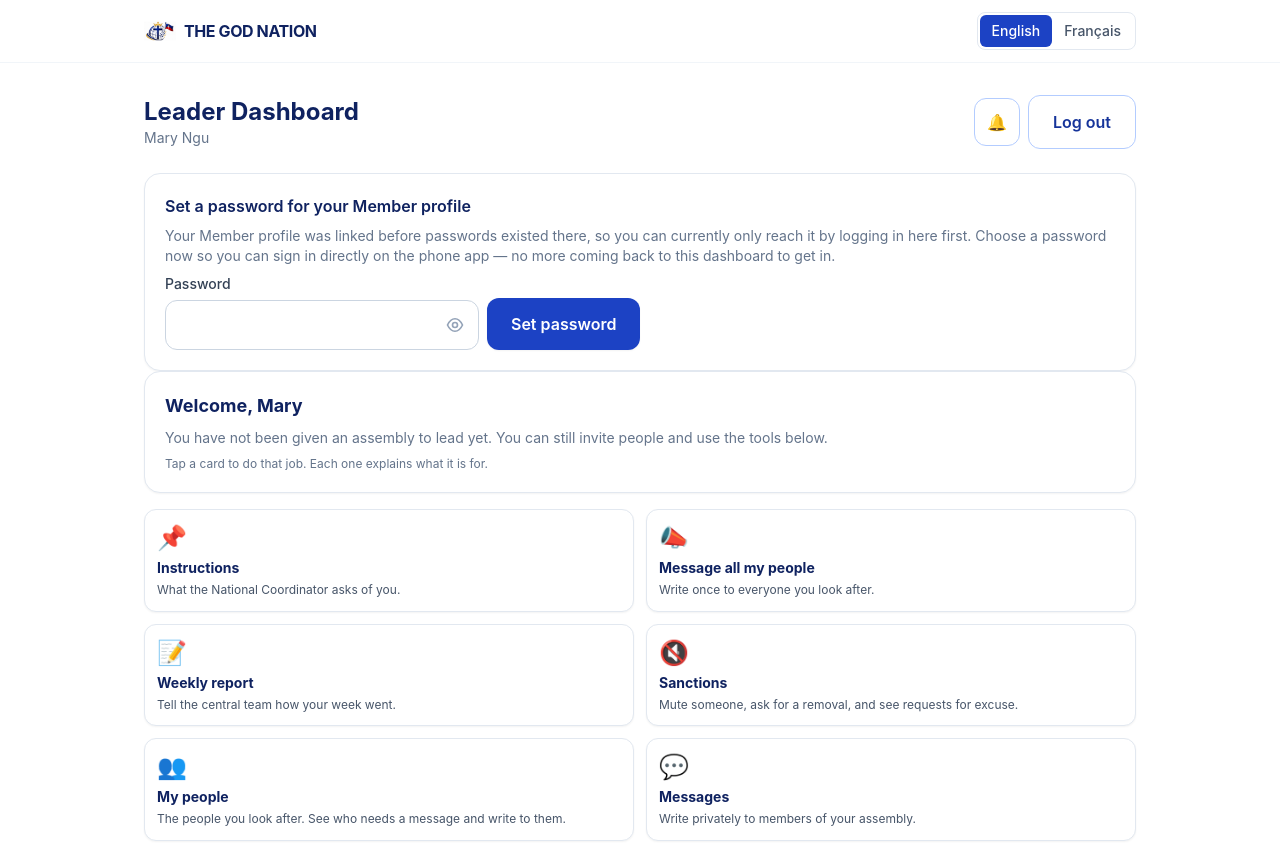
LeaderDashboardPage — Leader <-> Member identity bridge › offers to set a password for a legacy-linked profile that has none, then shows the fully-linked state once set
Expected: the heading "Set a password for your Member profile" is shown, [165, 196, 471, 216]
Expected: the text "Your Leader account is linked to your Member profile." is not shown
Type "Newpass123" into the password field labelled "Password" at coordinates (322, 325), box [165, 300, 479, 350]
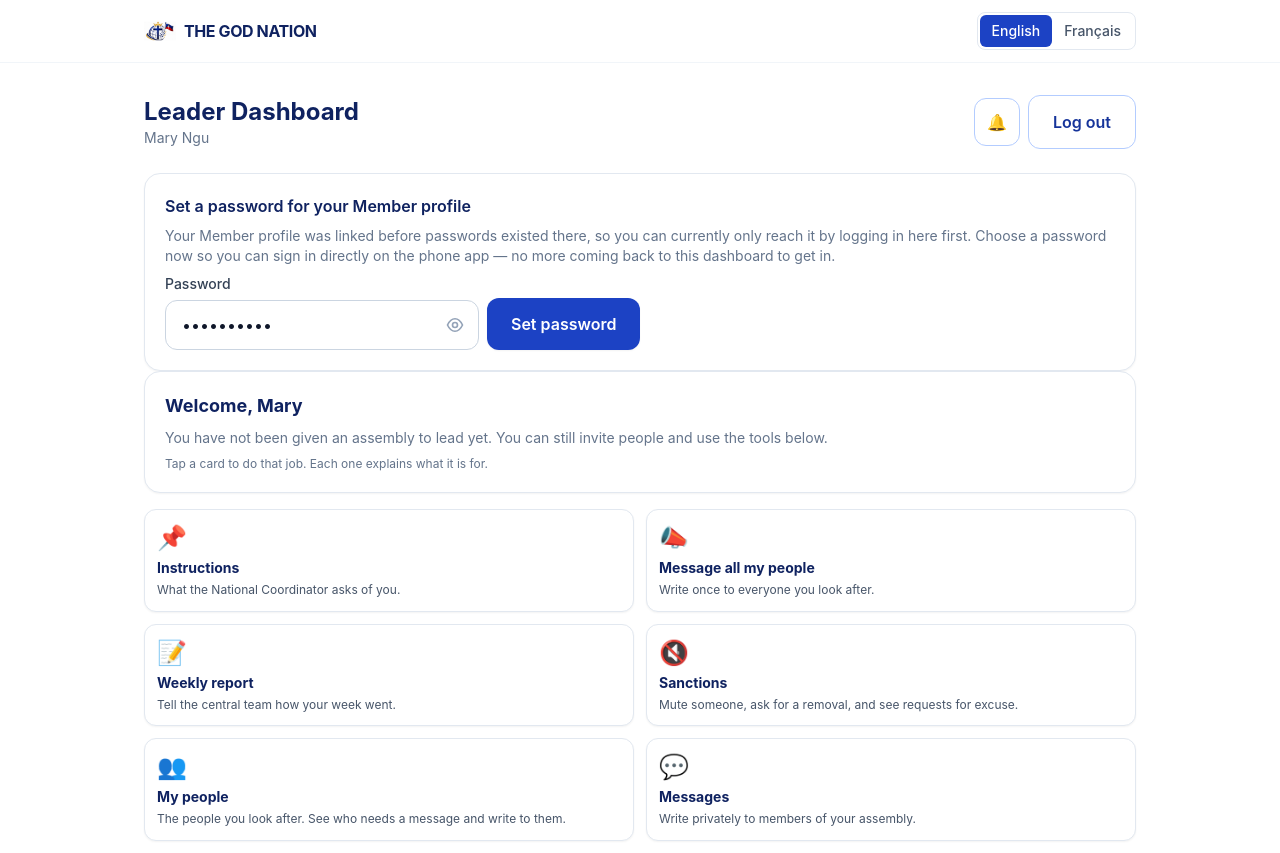
Click the button "Set password" at coordinates (564, 324), box [487, 298, 640, 350]
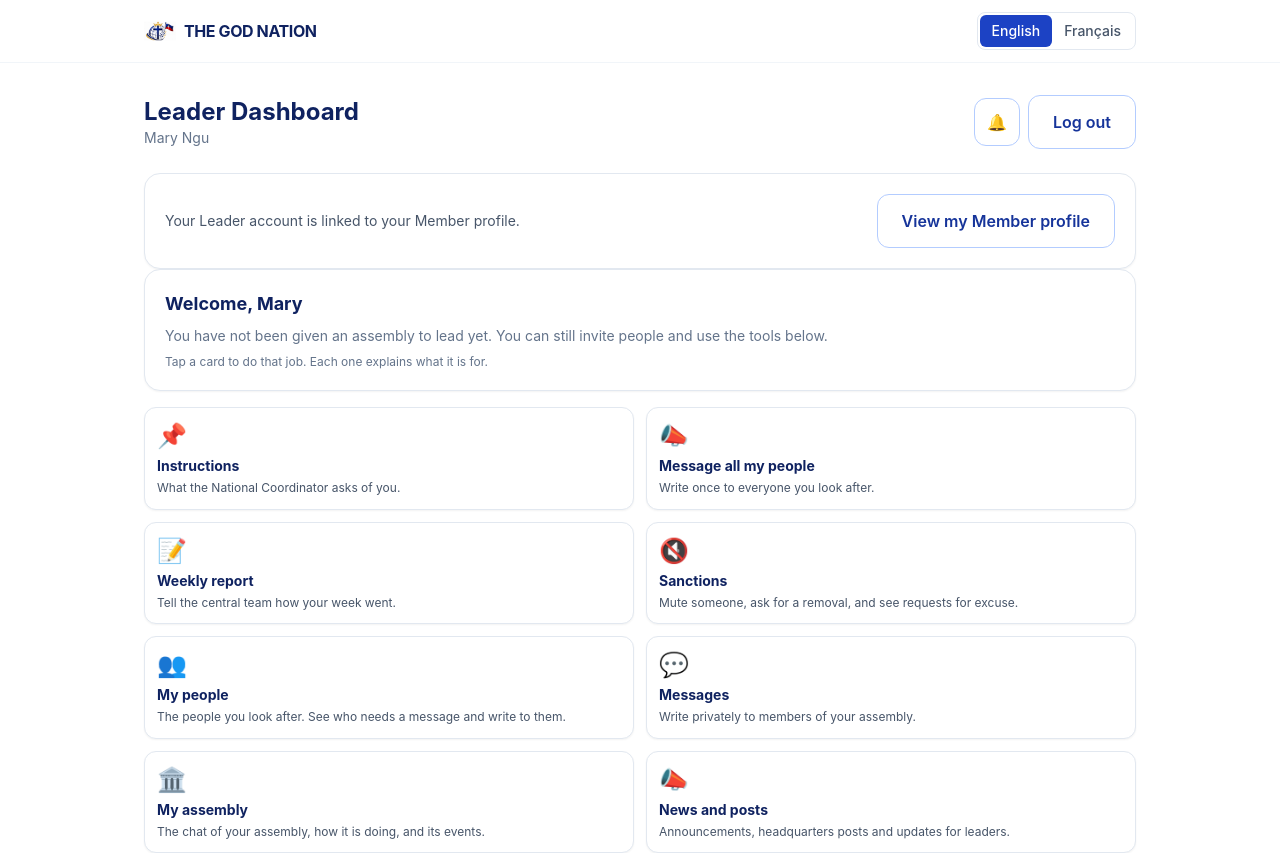
Now the text "Your Leader account is linked to your Member profile." is shown, box [165, 211, 520, 231]
Now the heading "Set a password for your Member profile" is gone
